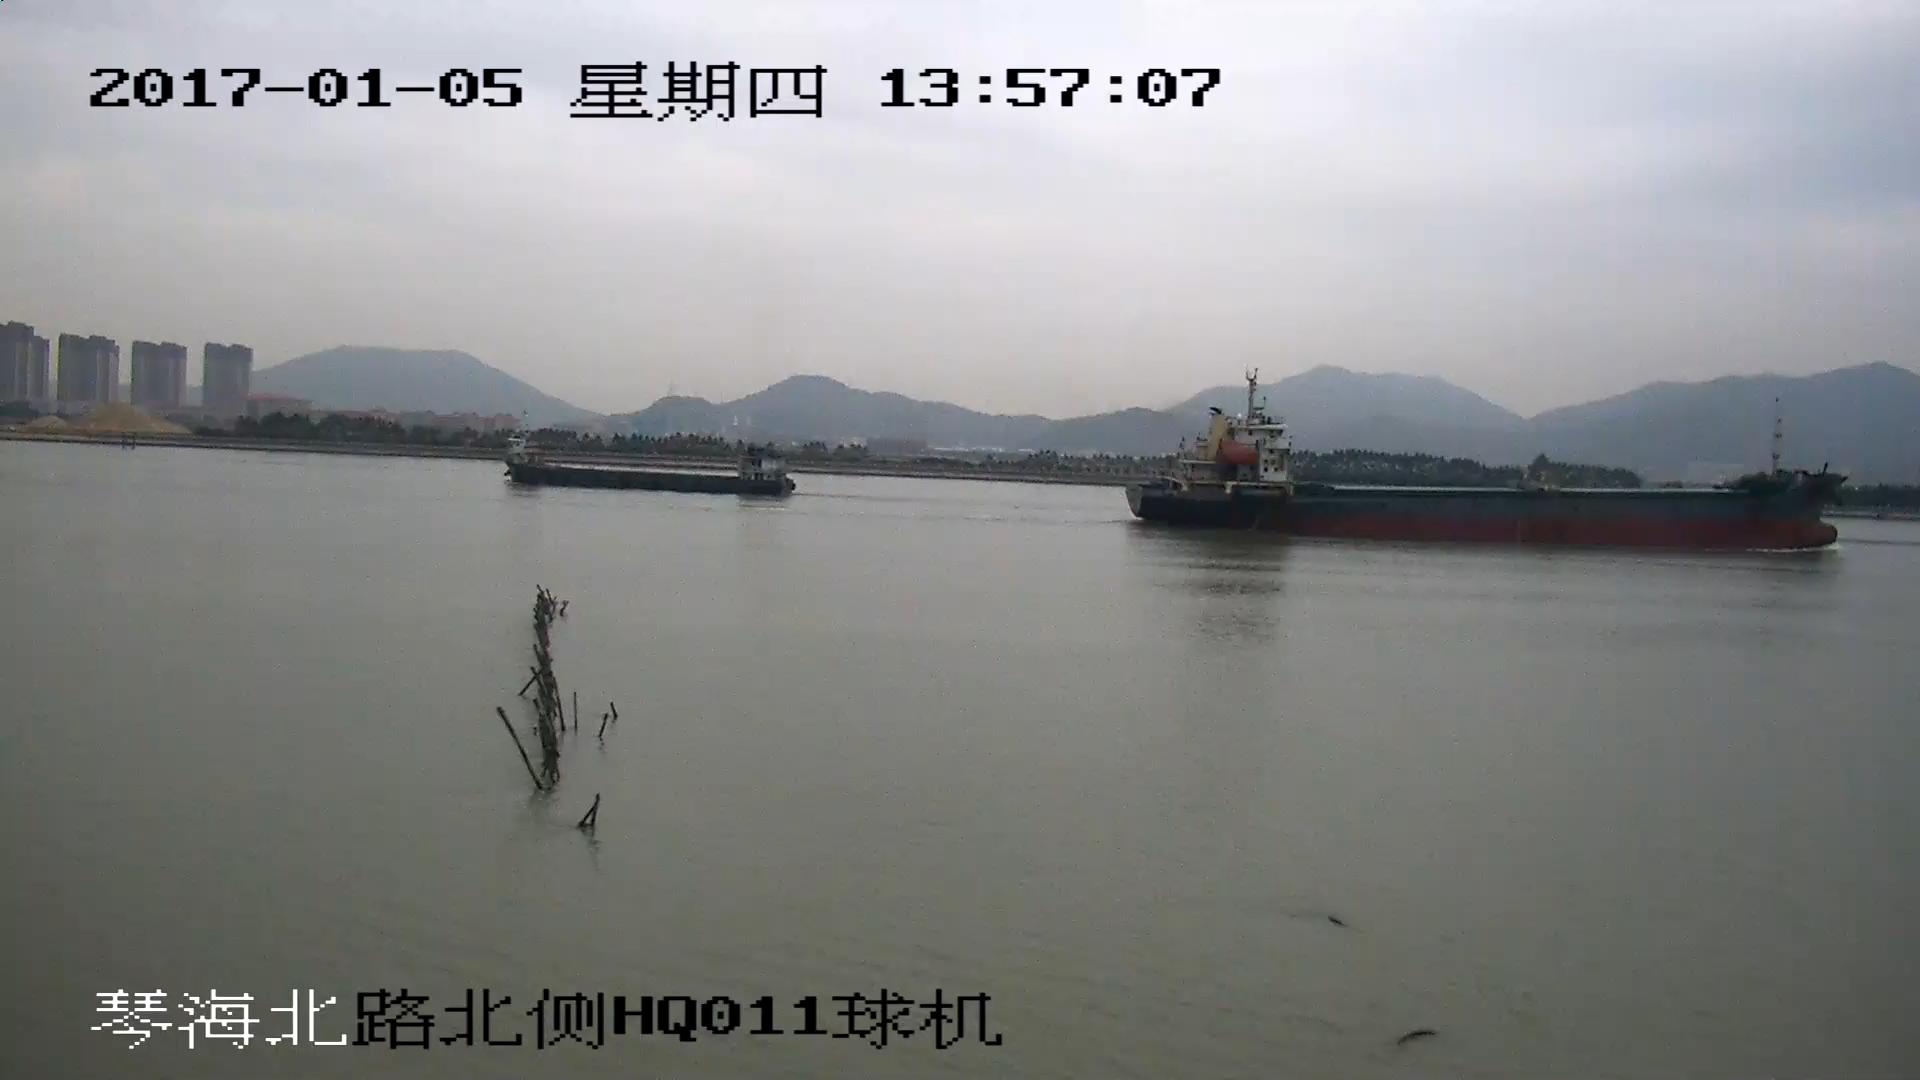general cargo ship: (1119, 371, 1847, 553), (508, 422, 788, 498)
